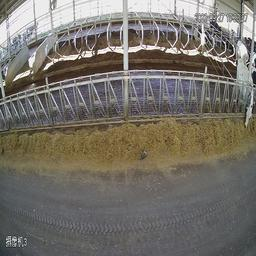cow: (236, 57, 254, 130), (194, 26, 212, 45), (209, 18, 222, 43), (222, 35, 235, 56), (236, 38, 247, 61), (230, 27, 239, 43), (244, 35, 252, 47)
